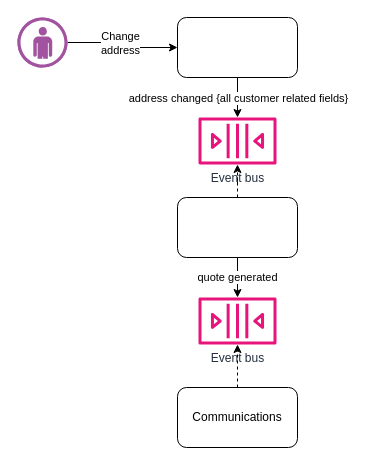
This 365x465 diagram has some shape labels left out. Each missing label, with the centre of its shape:
"Customer management" belongs at point (237, 47).
"Insurance quoting" belongs at point (237, 227).
